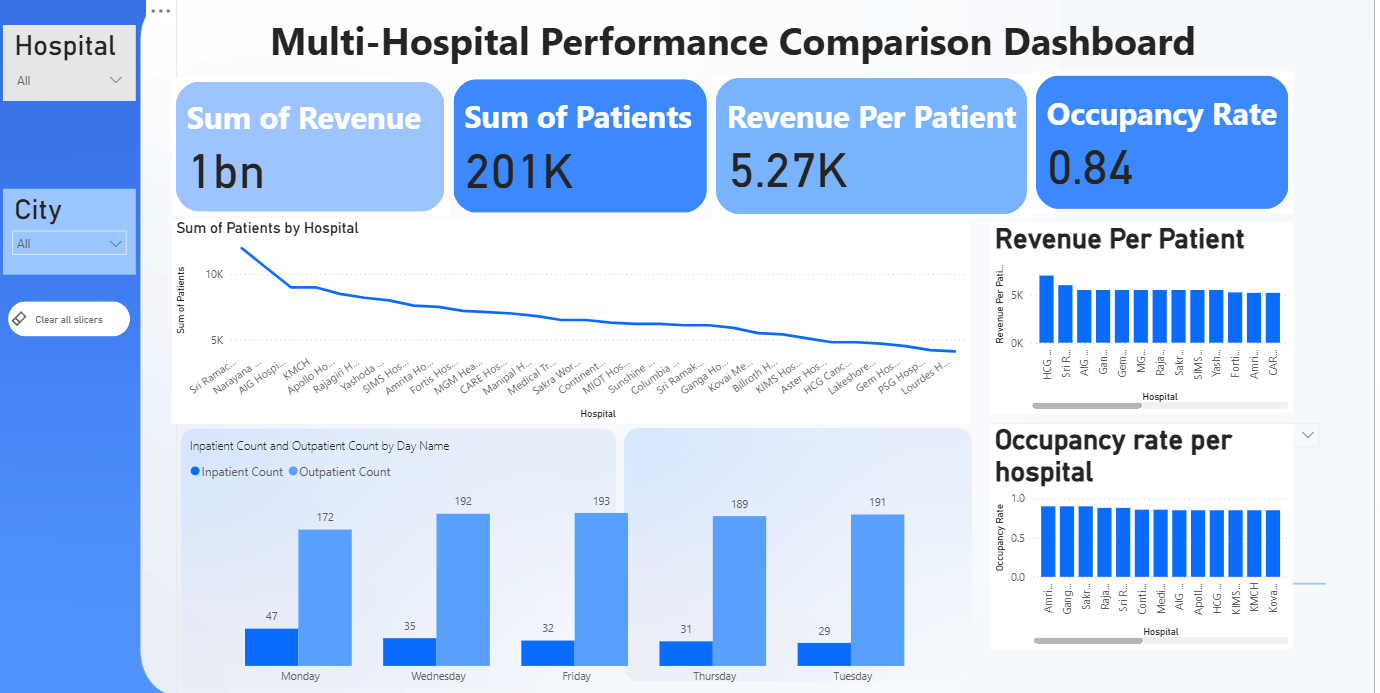

The page's visual inventory and layout, read from the dashboard file:
{"tool":"powerbi","page":{"name":"Dashboard","canvas":[1550,800],"ordinal":0},"visuals":[{"type":"image","box":[0,0,201.2,788.9],"z":0},{"type":"image","box":[683.6,483.6,433.6,295.5],"z":1000},{"type":"image","box":[201,483.5,500,302.5],"z":2000},{"type":"pivotTable","fields":{"Columns":["DimDate.Week Number"],"Rows":["DimDate.DayShort"],"Values":["_Measures.Visit Count"]},"box":[208.2,306.9,884.6,170.7],"z":3000},{"type":"textbox","box":[301.3,16.9,1249,69],"z":4000},{"type":"textbox","box":[265.9,105.5,226.6,37.2],"z":5000},{"type":"image","box":[225.8,98.7,40.8,41.9],"z":6000},{"type":"textbox","box":[854.6,106.3,197.1,32.8],"z":7000},{"type":"cardVisual","fields":{"Data":["DimDate.Patients per Day"]},"box":[999.1,315.2,87.9,113.1],"z":8000},{"type":"textbox","box":[983.9,397,110.1,31.3],"z":9000},{"type":"textbox","box":[216.3,312.8,417.2,36],"z":10000},{"type":"clusteredColumnChart","fields":{"Category":["DimDate.Day Name"],"Y":["_Measures.Inpatient Count","_Measures.Outpatient Count"]},"box":[211.2,498.5,881.5,287.2],"z":11000},{"type":"advancedSlicerVisual","fields":{"Values":["DimSymptom.SymptomName"]},"box":[1108.3,582.5,312.5,80],"z":13000},{"type":"shape","box":[1125.8,648.3,369.2,30.8],"z":14000},{"type":"slicer","fields":{"Values":["DimPatient.PatientName"]},"box":[1108.5,471.3,389.8,39.1],"z":15000},{"type":"actionButton","box":[11.3,345,137.7,39.7],"z":16000},{"type":"cardVisual","fields":{"Data":["Sum(hospital_performance_sample.Revenue)"]},"box":[195.7,92.9,312.6,156.3],"z":17000},{"type":"cardVisual","fields":{"Data":["Sum(hospital_performance_sample.Patients)"]},"box":[508.3,90.1,295.7,160.5],"z":18000},{"type":"cardVisual","fields":{"Data":["DimDate.Revenue Per Patient"]},"box":[804,88.7,360.5,163.3],"z":19000},{"type":"cardVisual","fields":{"Data":["DimDate.Occupancy Rate"]},"box":[1164.5,85.9,294.3,160.5],"z":20000},{"type":"clusteredColumnChart","title":"Revenue Per Patient ","fields":{"Category":["hospital_performance_sample.Hospital"],"Y":["DimDate.Revenue Per Patient"]},"box":[1118,256.3,340.8,215.4],"z":21000},{"type":"clusteredColumnChart","title":"Occupancy rate per hospital","fields":{"Category":["hospital_performance_sample.Hospital"],"Y":["DimDate.Occupancy Rate"]},"box":[1118,483,340.8,253.5],"z":22000},{"type":"lineChart","fields":{"Category":["hospital_performance_sample.Hospital"],"Y":["Sum(hospital_performance_sample.Patients)"]},"box":[195.7,252,898.3,230.9],"z":23000},{"type":"slicer","fields":{"Values":["hospital_performance_sample.Hospital"]},"box":[5.6,33.8,149.3,85.9],"z":24000},{"type":"slicer","fields":{"Values":["hospital_performance_sample.City"]},"box":[5.6,218.3,149.3,97.2],"z":25000}]}

Visuals, with their boxes on the page's 1550x800 design canvas (x1, y1, x2, y2). These are canvas units, not pixel positions in the 1380x693 screenshot, which may show the page scaled, cropped or inside an application window:
image: detection(0, 0, 201, 789)
image: detection(684, 484, 1117, 779)
image: detection(201, 484, 701, 786)
pivotTable - DimDate.Week Number x DimDate.DayShort: detection(208, 307, 1093, 478)
textbox: detection(301, 17, 1550, 86)
textbox: detection(266, 106, 492, 143)
image: detection(226, 99, 267, 141)
textbox: detection(855, 106, 1052, 139)
cardVisual - DimDate.Patients per Day: detection(999, 315, 1087, 428)
textbox: detection(984, 397, 1094, 428)
textbox: detection(216, 313, 634, 349)
clusteredColumnChart - DimDate.Day Name x _Measures.Inpatient Count: detection(211, 498, 1093, 786)
advancedSlicerVisual - DimSymptom.SymptomName: detection(1108, 582, 1421, 662)
shape: detection(1126, 648, 1495, 679)
slicer - DimPatient.PatientName: detection(1108, 471, 1498, 510)
actionButton: detection(11, 345, 149, 385)
cardVisual - Sum(hospital_performance_sample.Revenue): detection(196, 93, 508, 249)
cardVisual - Sum(hospital_performance_sample.Patients): detection(508, 90, 804, 251)
cardVisual - DimDate.Revenue Per Patient: detection(804, 89, 1164, 252)
cardVisual - DimDate.Occupancy Rate: detection(1164, 86, 1459, 246)
"Revenue Per Patient " clusteredColumnChart: detection(1118, 256, 1459, 472)
"Occupancy rate per hospital" clusteredColumnChart: detection(1118, 483, 1459, 736)
lineChart - hospital_performance_sample.Hospital x Sum(hospital_performance_sample.Patients): detection(196, 252, 1094, 483)
slicer - hospital_performance_sample.Hospital: detection(6, 34, 155, 120)
slicer - hospital_performance_sample.City: detection(6, 218, 155, 316)
